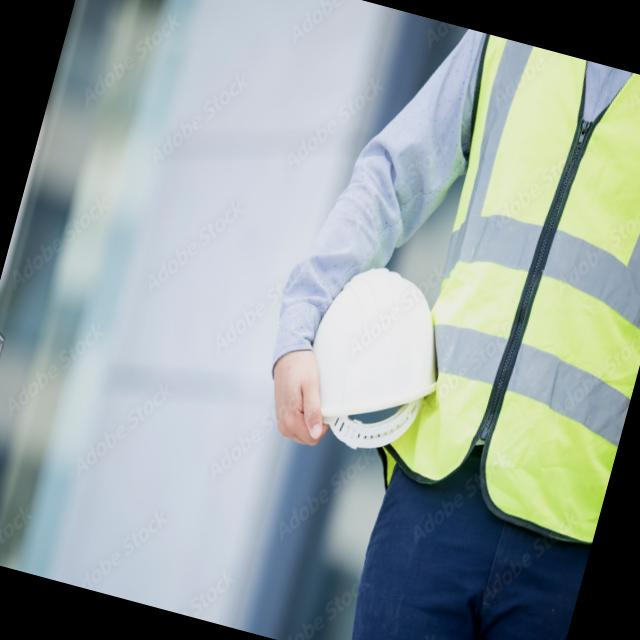helmet: (365, 32, 640, 523), (276, 240, 466, 472)
